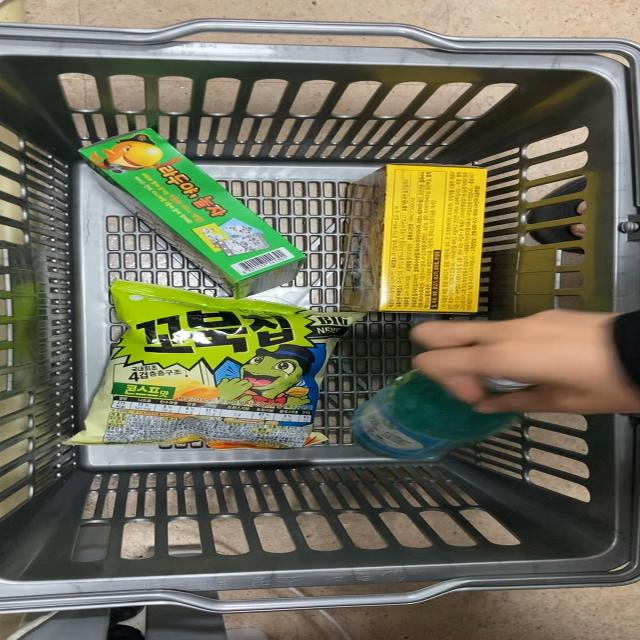ggobukchip: (105, 284, 332, 460)
goraebob: (66, 126, 300, 292)
jinro: (342, 347, 516, 480)
minicrab: (309, 155, 489, 313)
